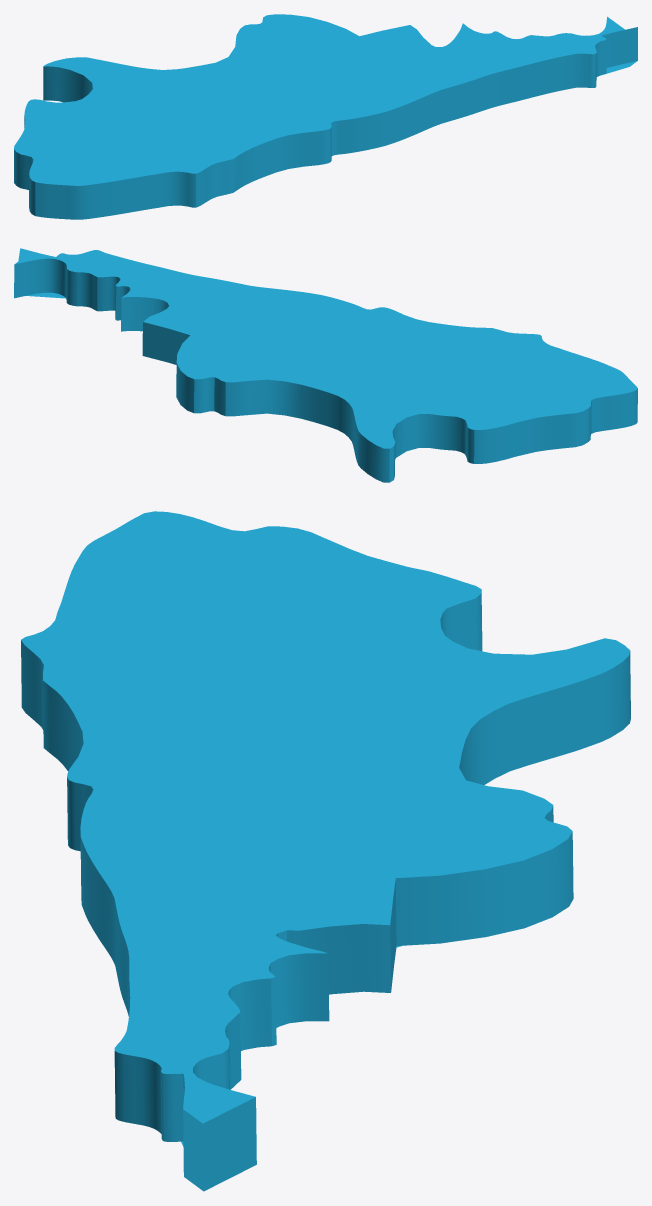
The model's file is Argentina.glb.
3 renders of one model, top to bottom at view 1: azimuth 30°, elevation 25°; view 2: azimuth 150°, elevation 25°; view 3: azimuth 270°, elevation 25°, orthographic. The views are drawn at different scales.
Parts seen in each view (by area): view 1: Plano; view 2: Plano; view 3: Plano.
Part boxes in pixels (bbox=[...]): Plano: bbox=[14, 14, 637, 219]; Plano: bbox=[14, 248, 637, 482]; Plano: bbox=[21, 511, 630, 1191].
Bounding box in the file's own units: 1.24 × 0.1042 × 0.539.
